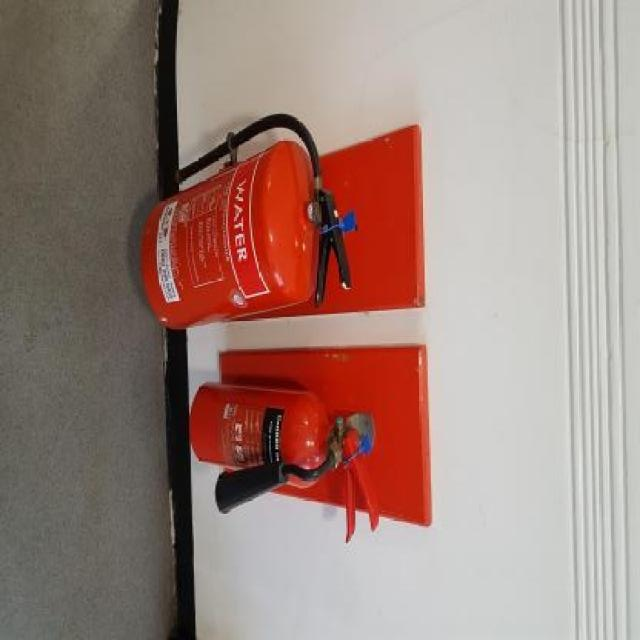fire extinguisher: (141, 112, 353, 332), (187, 379, 381, 544)
